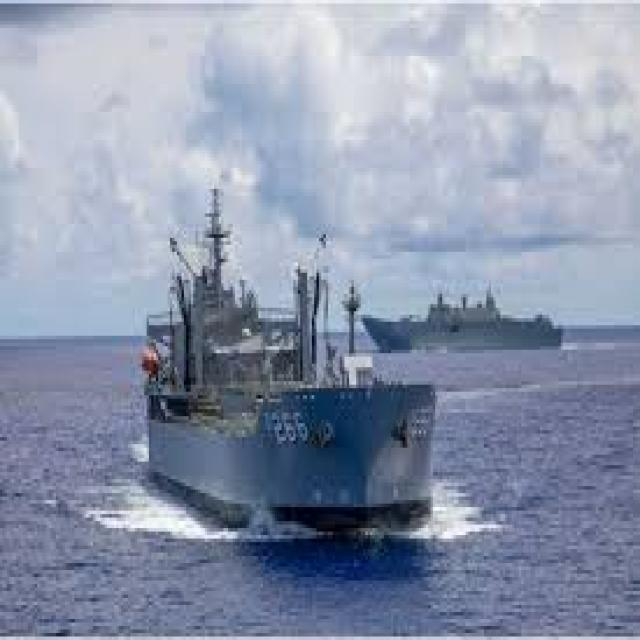navalvessels: (125, 204, 450, 540), (342, 210, 568, 356)
